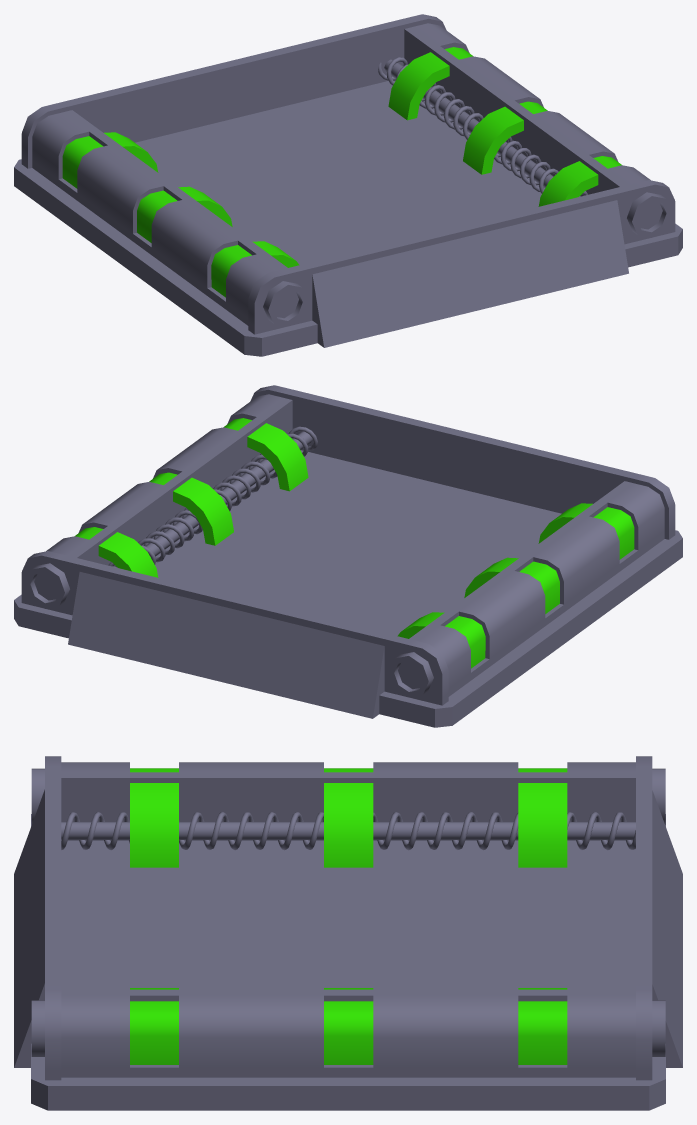
Rendered from Charger.fbx.
3 views of the same model, one above another, from view 1: azimuth 30°, elevation 25°; view 2: azimuth 150°, elevation 25°; view 3: azimuth 270°, elevation 25° (orthographic). The views are drawn at different scales.
Parts seen in each view (by area): view 1: Charger; view 2: Charger; view 3: Charger.
Part boxes in pixels (x1,y1,x2,y2): Charger: (14,14,682,356); Charger: (14,385,682,727); Charger: (14,756,682,1110).
Bounding box in the file's own units: 81.72 × 12.68 × 82.74.
